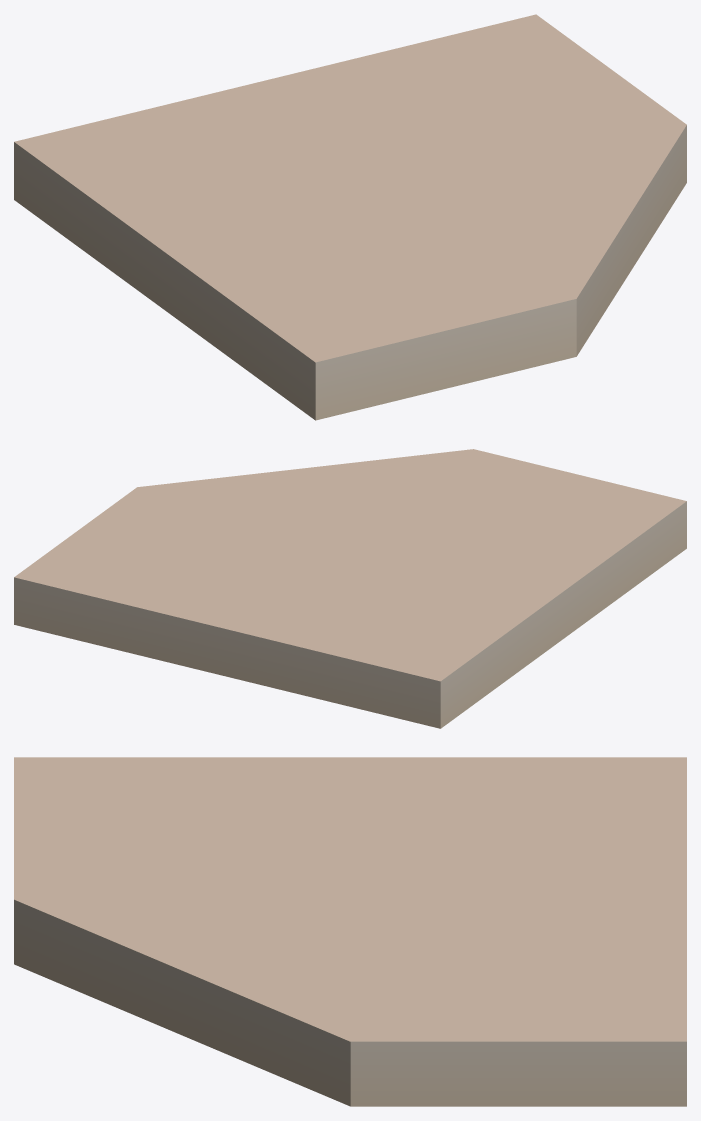
The model's file is roof-flat-corner.glb.
3 views of the same model, one above another, from view 1: azimuth 30°, elevation 25°; view 2: azimuth 150°, elevation 25°; view 3: azimuth 270°, elevation 25° (orthographic). The views are drawn at different scales.
Visible parts, largest first — view 1: roof-flat-corner; view 2: roof-flat-corner; view 3: roof-flat-corner.
Part boxes in pixels (x1,y1,x2,y2): roof-flat-corner: (14,14,686,420); roof-flat-corner: (14,449,686,728); roof-flat-corner: (14,757,686,1106).
Size of the model in its own units: 1 by 0.1062 by 1.
